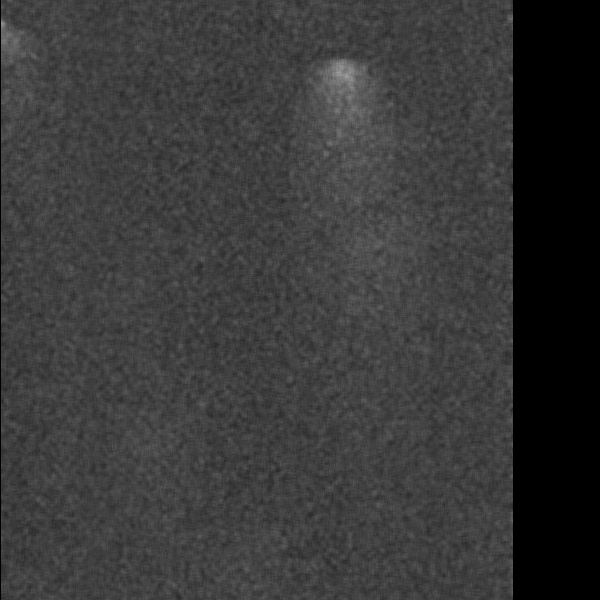spark: (316, 50, 371, 181), (338, 156, 365, 173)
